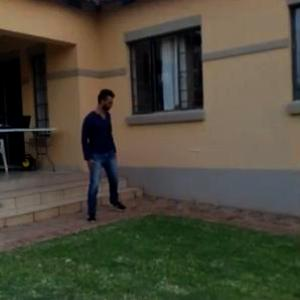follow: (82, 82, 124, 226)
